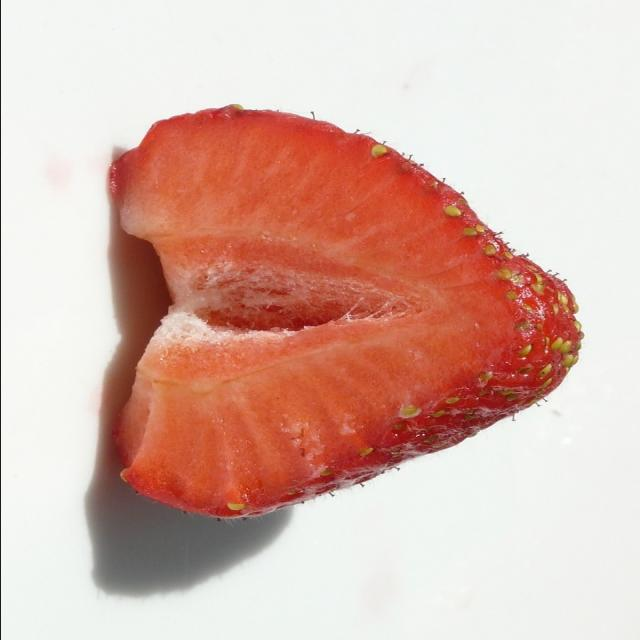strawberry: (74, 80, 620, 545)
